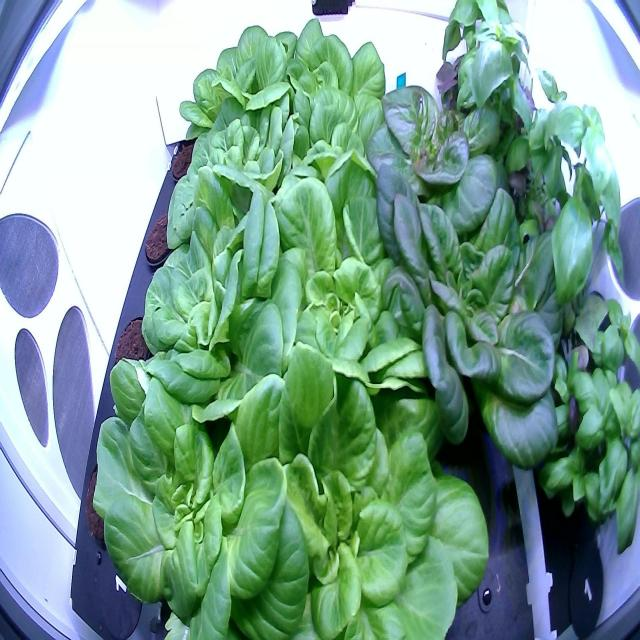Ready: (217, 321, 497, 640), (368, 160, 570, 487), (90, 350, 314, 640), (270, 162, 453, 431), (131, 183, 297, 428), (364, 70, 495, 270), (269, 79, 386, 263), (178, 83, 308, 239), (175, 7, 302, 156), (282, 11, 394, 156)
pod: (106, 301, 164, 400), (138, 193, 193, 278), (166, 122, 217, 194)
